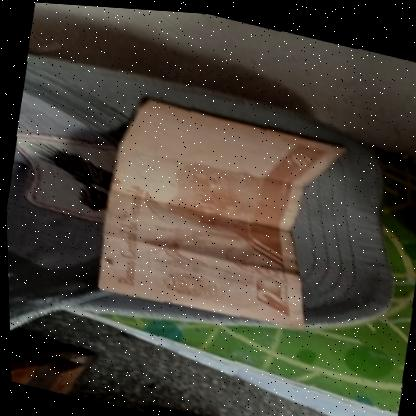twenty-back-vef: (87, 87, 350, 339)
